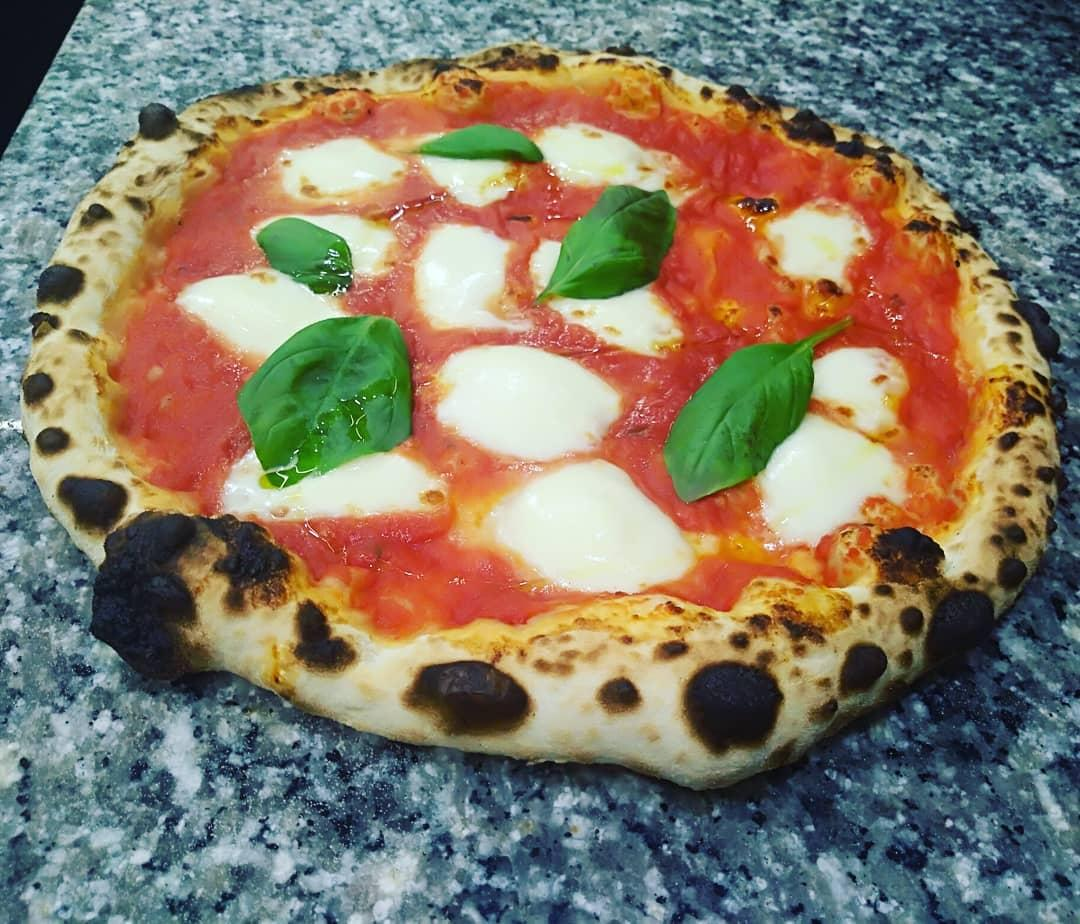Basil: (660, 304, 859, 520), (232, 311, 410, 488), (530, 181, 687, 312), (248, 214, 368, 298), (412, 112, 551, 170)
Cheese: (488, 458, 696, 603), (428, 340, 623, 466), (752, 429, 914, 550), (536, 108, 696, 199), (218, 466, 455, 522), (184, 264, 325, 349), (416, 216, 512, 339), (264, 134, 410, 200), (770, 197, 871, 292), (558, 288, 691, 357), (816, 343, 907, 420), (414, 152, 520, 205)
Pizza: (24, 48, 1055, 749)
